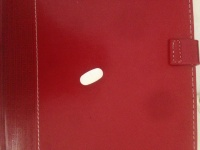Centik Buskopan: (79, 66, 104, 86)
